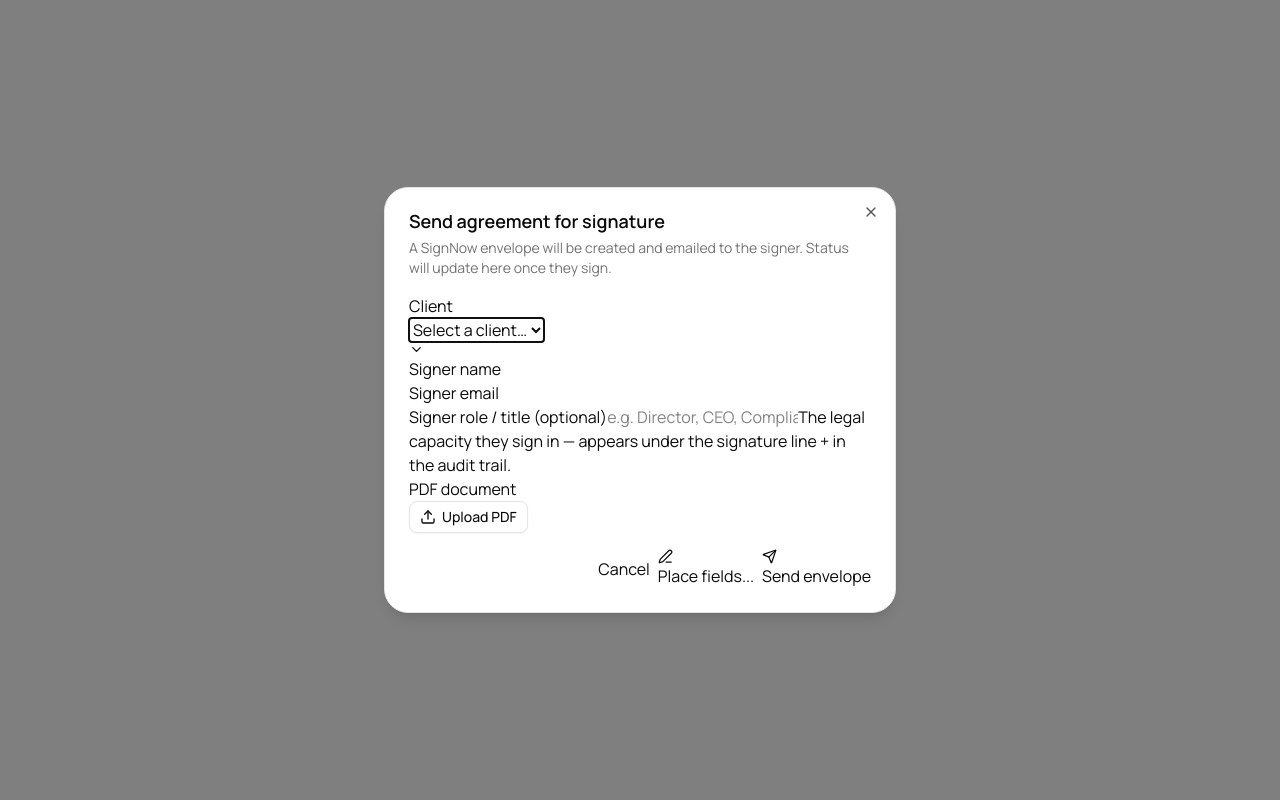
Test: SendAgreementDialog — auto-fill signer from selected client › overwrites signer fields when switching from one client to another
The width and height of the screenshot is (1280, 800).
Select "Acme Ltd" in the dropdown labelled "Client" at (476, 330), box x1=409 y1=318 x2=544 y2=342
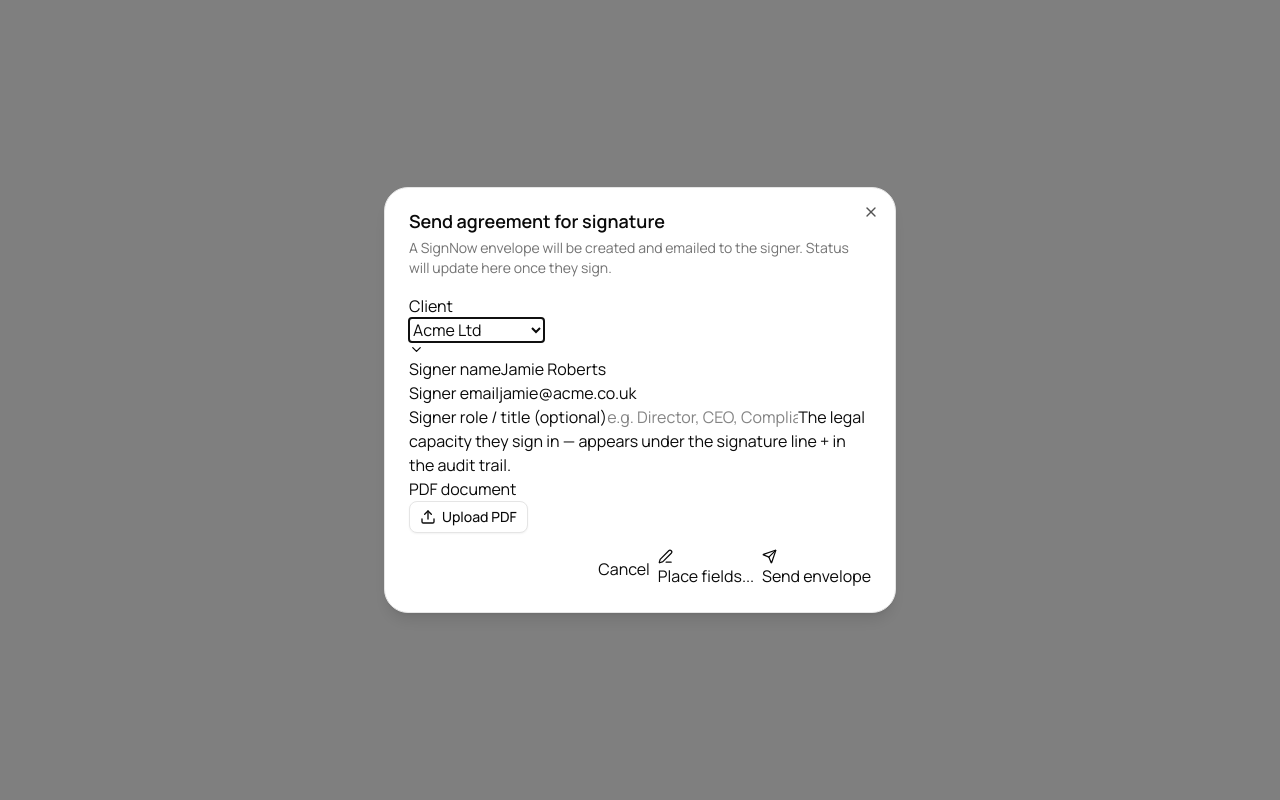
Check: the field labelled "Signer name" holds "Jamie Roberts", box x1=501 y1=357 x2=692 y2=381
Select "Beta Co" in the dropdown labelled "Client" at (476, 330), box x1=409 y1=318 x2=544 y2=342
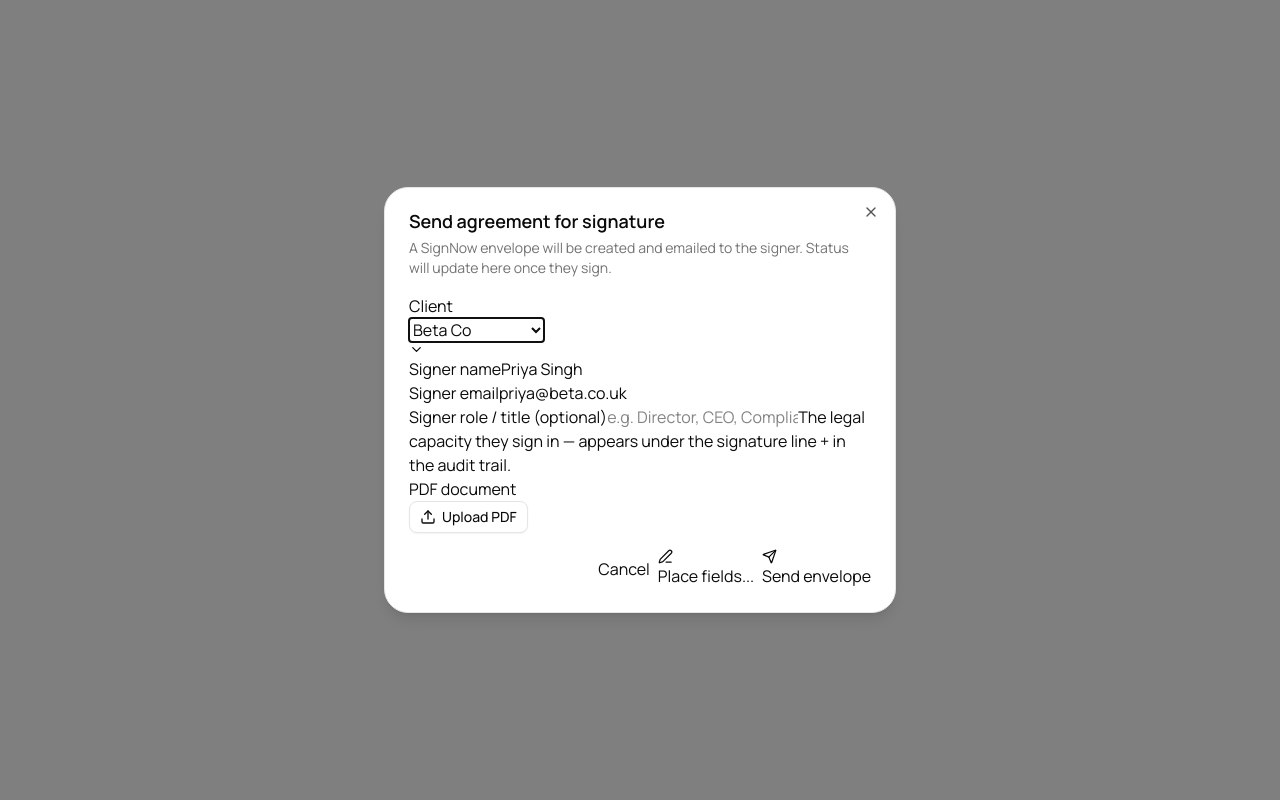
Check: the field labelled "Signer name" holds "Priya Singh", box x1=501 y1=357 x2=692 y2=381
Check: the field labelled "Signer email" holds "priya@beta.co.uk", box x1=499 y1=381 x2=690 y2=405
